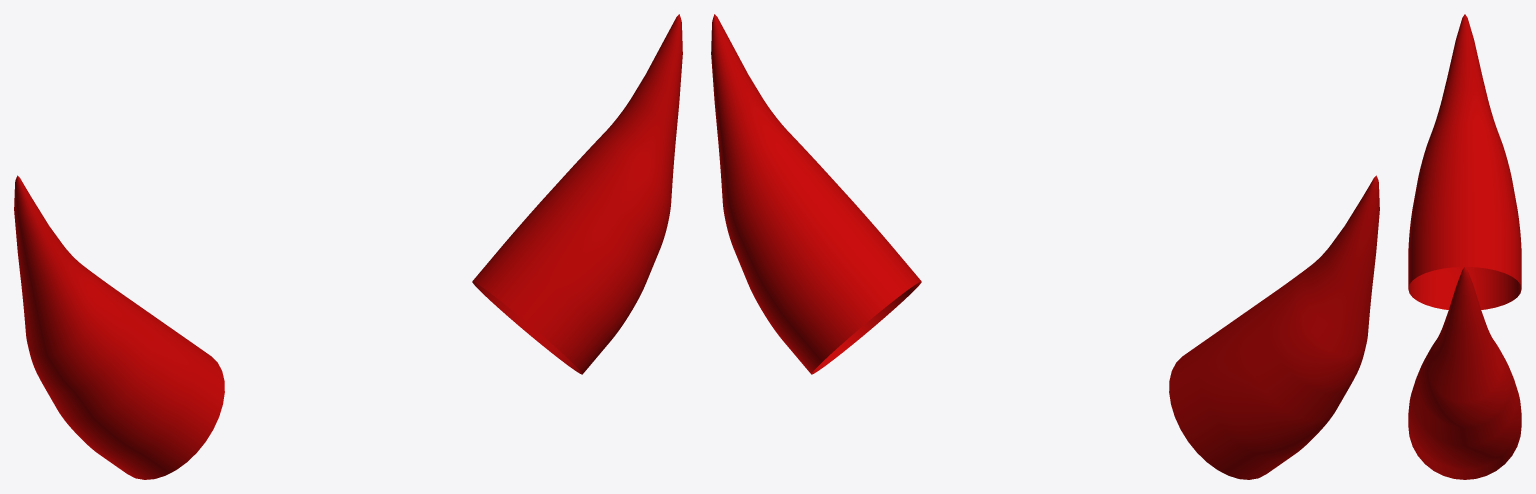
Rendered from DevilHorns.fbx.
The picture shows the model from 3 angles, left to right: view 1: azimuth 30°, elevation 25°; view 2: azimuth 150°, elevation 25°; view 3: azimuth 270°, elevation 25°; orthographic projection. The views are drawn at different scales.
Visible parts, largest first — view 1: horn2, horn; view 2: horn2, horn; view 3: horn, horn2.
Part boxes in pixels (bbox=[...]): horn2: bbox=[472, 14, 682, 374]; horn: bbox=[14, 175, 224, 479]; horn2: bbox=[711, 14, 921, 374]; horn: bbox=[1169, 175, 1379, 479]; horn: bbox=[1408, 14, 1521, 309]; horn2: bbox=[1408, 267, 1521, 479].
Bounding box in the file's own units: 331 × 155 × 62.4.
